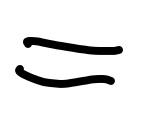eqv: (15, 37, 123, 87)
